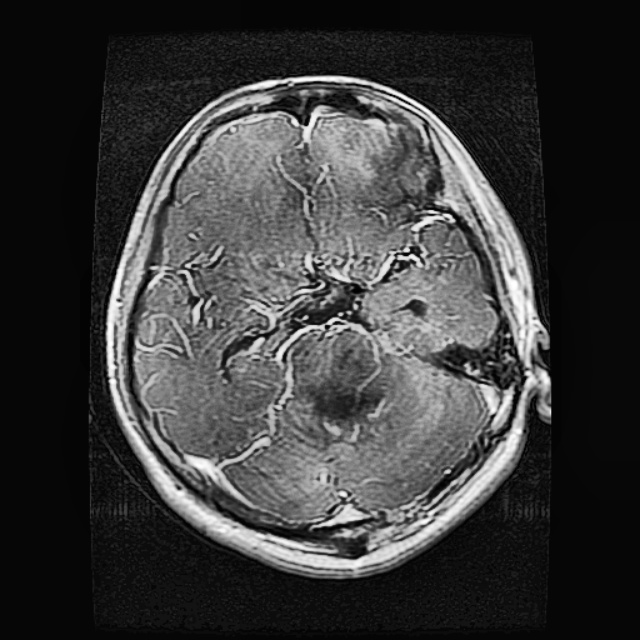Glioma: (367, 122, 447, 219)
